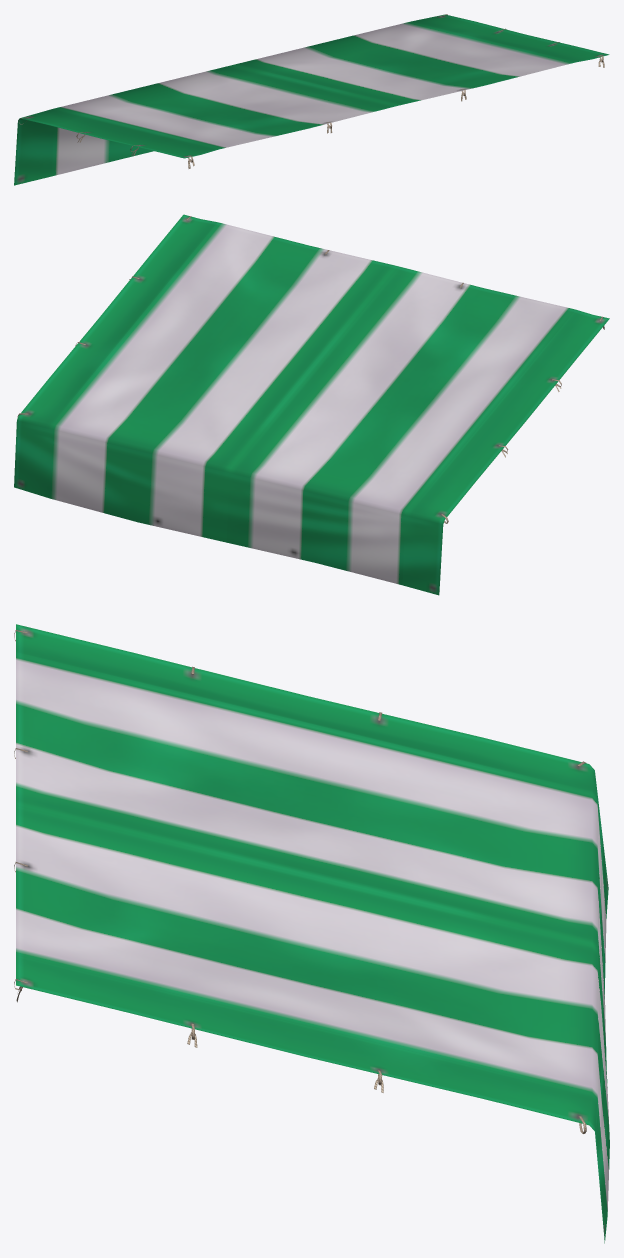
The model's file is jsf_Ceiling_s03_c04_t01.fbx.
3 renders of one model, top to bottom at view 1: azimuth 30°, elevation 25°; view 2: azimuth 150°, elevation 25°; view 3: azimuth 270°, elevation 25°, orthographic. The views are drawn at different scales.
Visible parts, largest first — view 1: jsf_Ceiling_s03_c04_t01; view 2: jsf_Ceiling_s03_c04_t01; view 3: jsf_Ceiling_s03_c04_t01.
Part boxes in pixels (x1,y1,x2,y2): jsf_Ceiling_s03_c04_t01: (14,14,609,185); jsf_Ceiling_s03_c04_t01: (14,214,609,595); jsf_Ceiling_s03_c04_t01: (14,624,609,1243).
Bounding box in the file's own units: 315 × 106 × 216.
